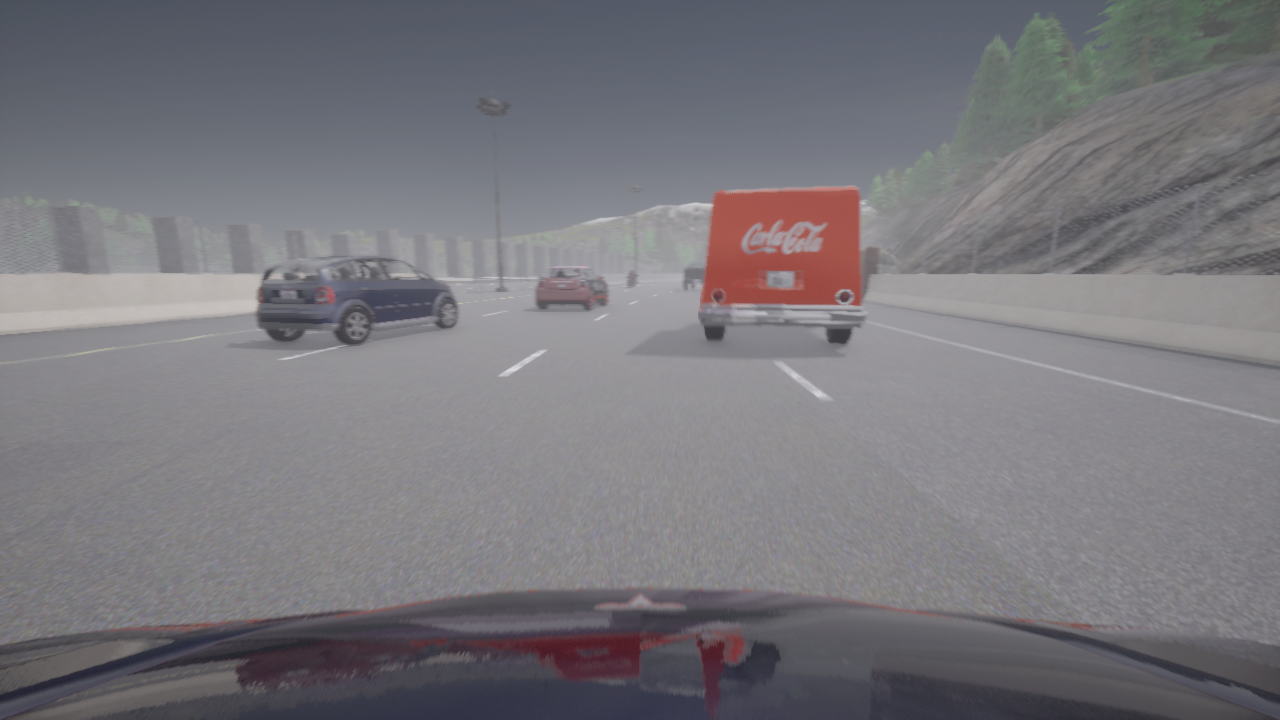cyclist: (0, 588, 1279, 719), (699, 186, 866, 344), (256, 255, 457, 344), (536, 266, 607, 310), (682, 262, 706, 290), (626, 275, 635, 286)
